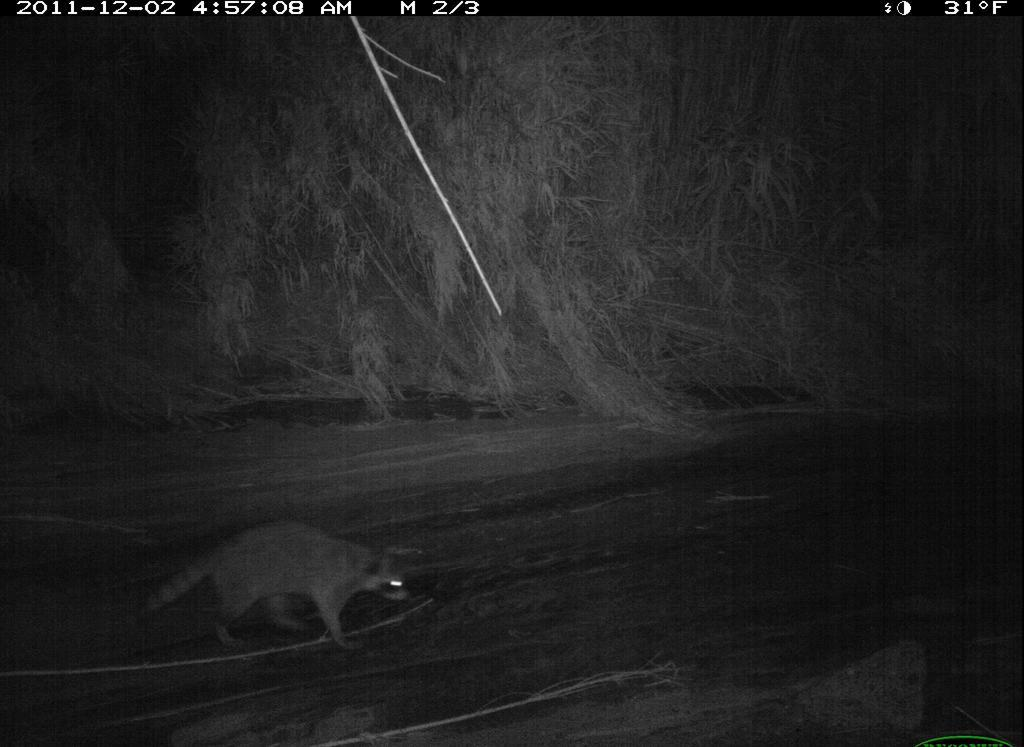raccoon: (131, 510, 422, 653)
